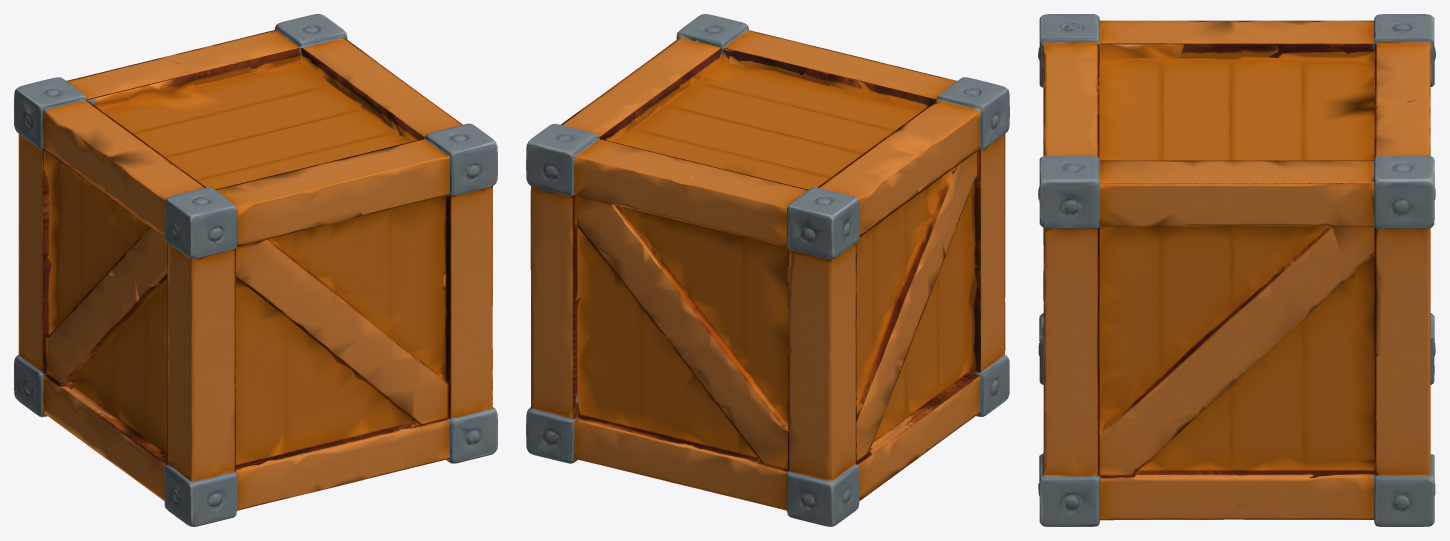
The model's file is wooden+crate+3d+model.fbx.
The picture shows the model from 3 angles, left to right: view 1: azimuth 30°, elevation 25°; view 2: azimuth 150°, elevation 25°; view 3: azimuth 270°, elevation 25°; orthographic projection. The views are drawn at different scales.
Visible parts, largest first — view 1: tripo_node_f5b107d7; view 2: tripo_node_f5b107d7; view 3: tripo_node_f5b107d7.
Boxes of the visible parts, <box> form: tripo_node_f5b107d7: <box>14,14,497,526</box>; tripo_node_f5b107d7: <box>526,14,1009,526</box>; tripo_node_f5b107d7: <box>1038,14,1435,526</box>.
Bounding box in the file's own units: 0.9996 × 0.9661 × 0.9999.
1 material, 1 textured.
